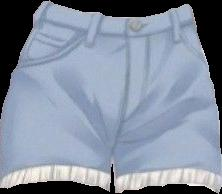Hemline: (0, 179, 112, 193), (116, 183, 220, 193)
Pantleg: (0, 1, 128, 192), (112, 4, 221, 192)
Waistline: (35, 15, 195, 35), (45, 0, 186, 17)
